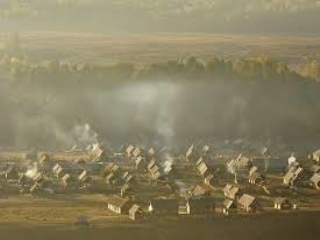smoke: (122, 75, 188, 179)
